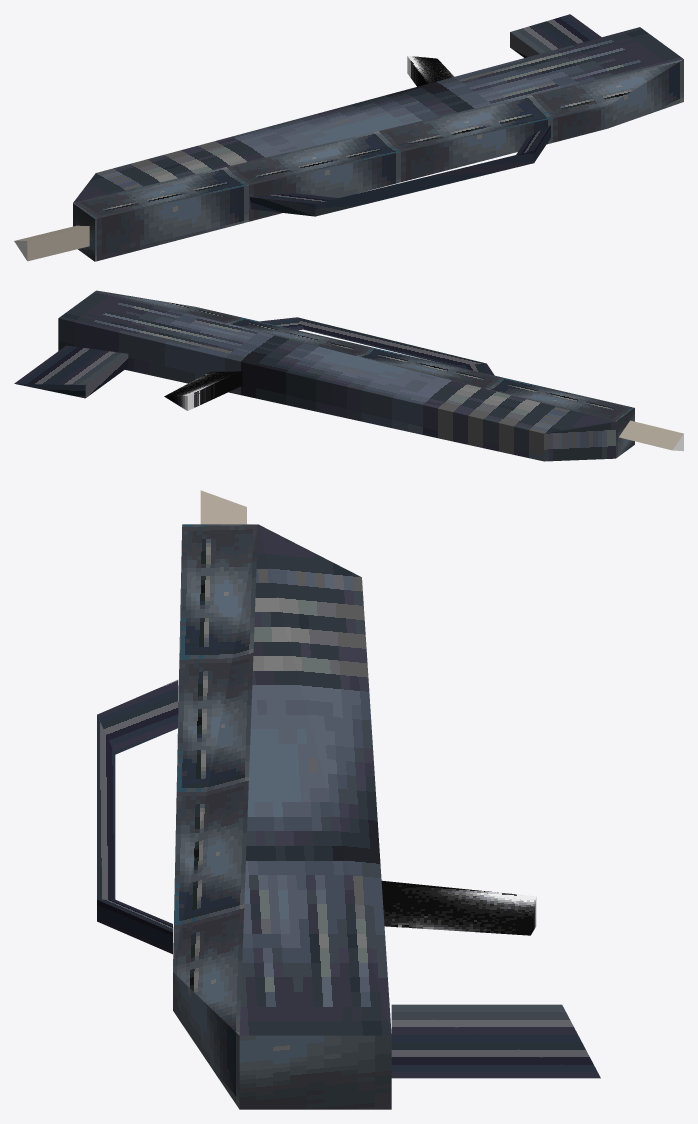
Rendered from 0f-k7-avenger-tp.glb.
3 renders of one model, top to bottom at view 1: azimuth 30°, elevation 25°; view 2: azimuth 150°, elevation 25°; view 3: azimuth 270°, elevation 25°, orthographic. The views are drawn at different scales.
Parts seen in each view (by area): view 1: gun; view 2: gun; view 3: gun.
Part boxes in pixels (x1,y1,x2,y2): gun: (14, 14, 683, 261); gun: (14, 290, 683, 461); gun: (97, 490, 600, 1109).
Bounding box in the file's own units: 865 × 52.88 × 327.
6 materials, 6 textured.
